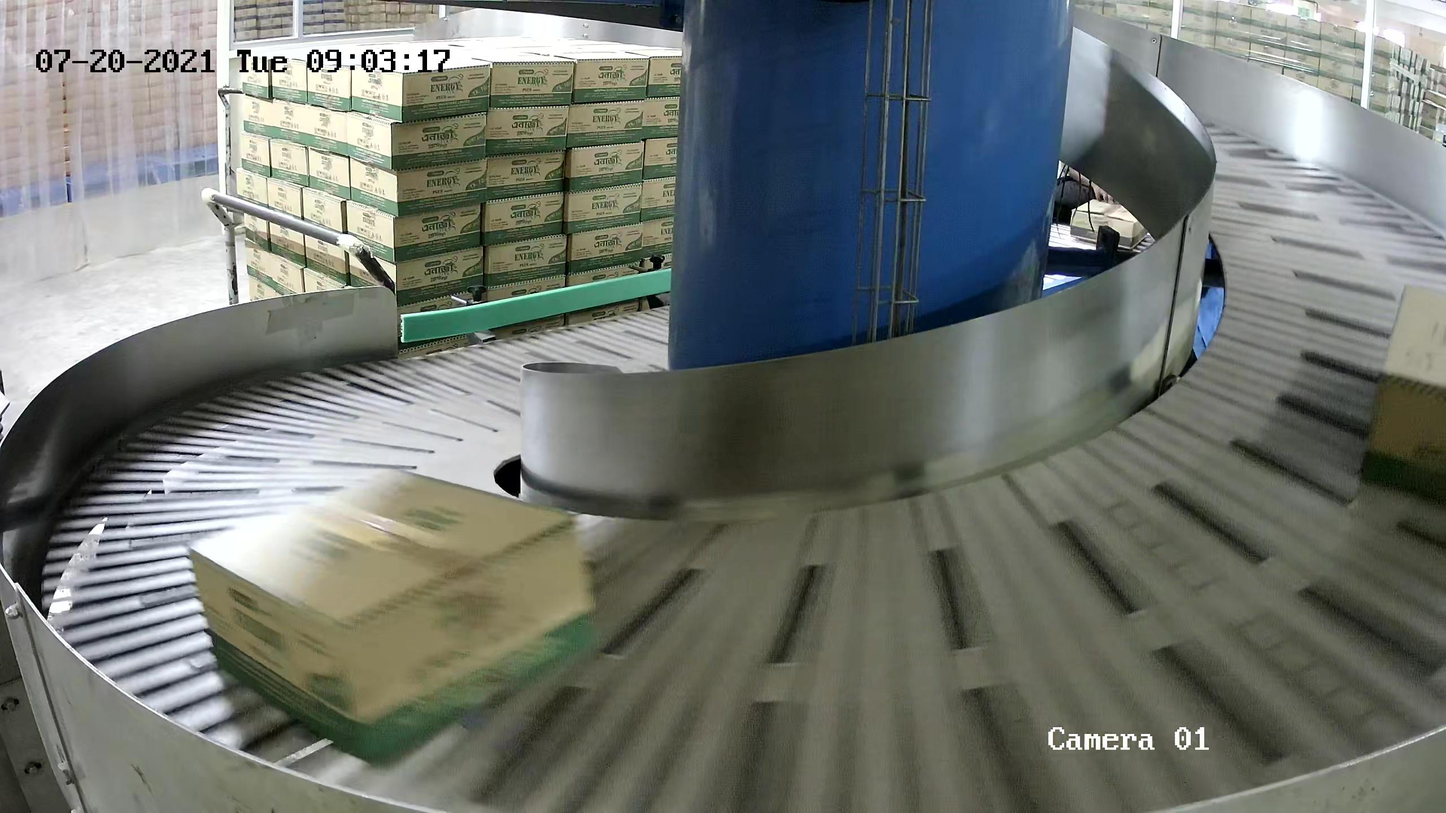Box: (188, 464, 605, 766), (1358, 281, 1446, 497)
